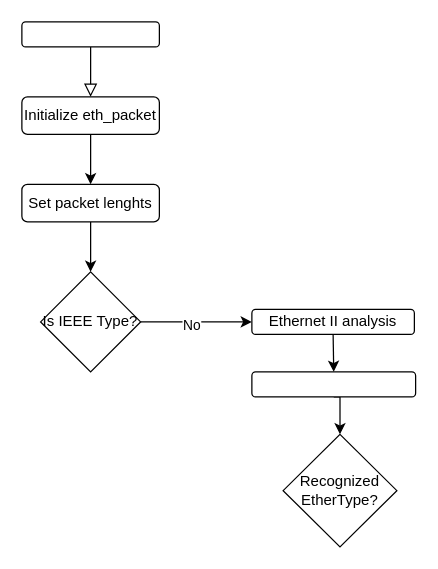
This 438x569 diagram has some shape labels left out. The shapes that lost their labels are listed below. From the top down, each one's centre as x and y in pixels, then its label:
At [90,34]: "Start".
At [333,384]: "Extract mac addresses".
